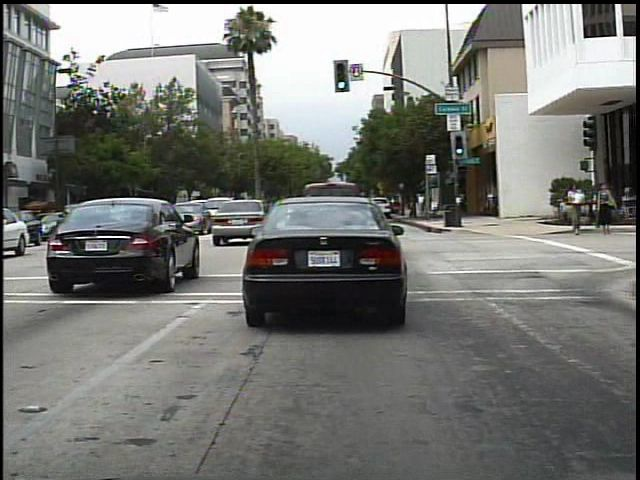person: (562, 178, 588, 240), (592, 181, 619, 238), (411, 186, 428, 218)
